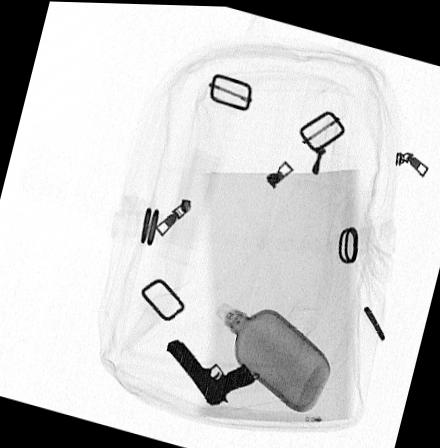Gun: (164, 335, 256, 402)
